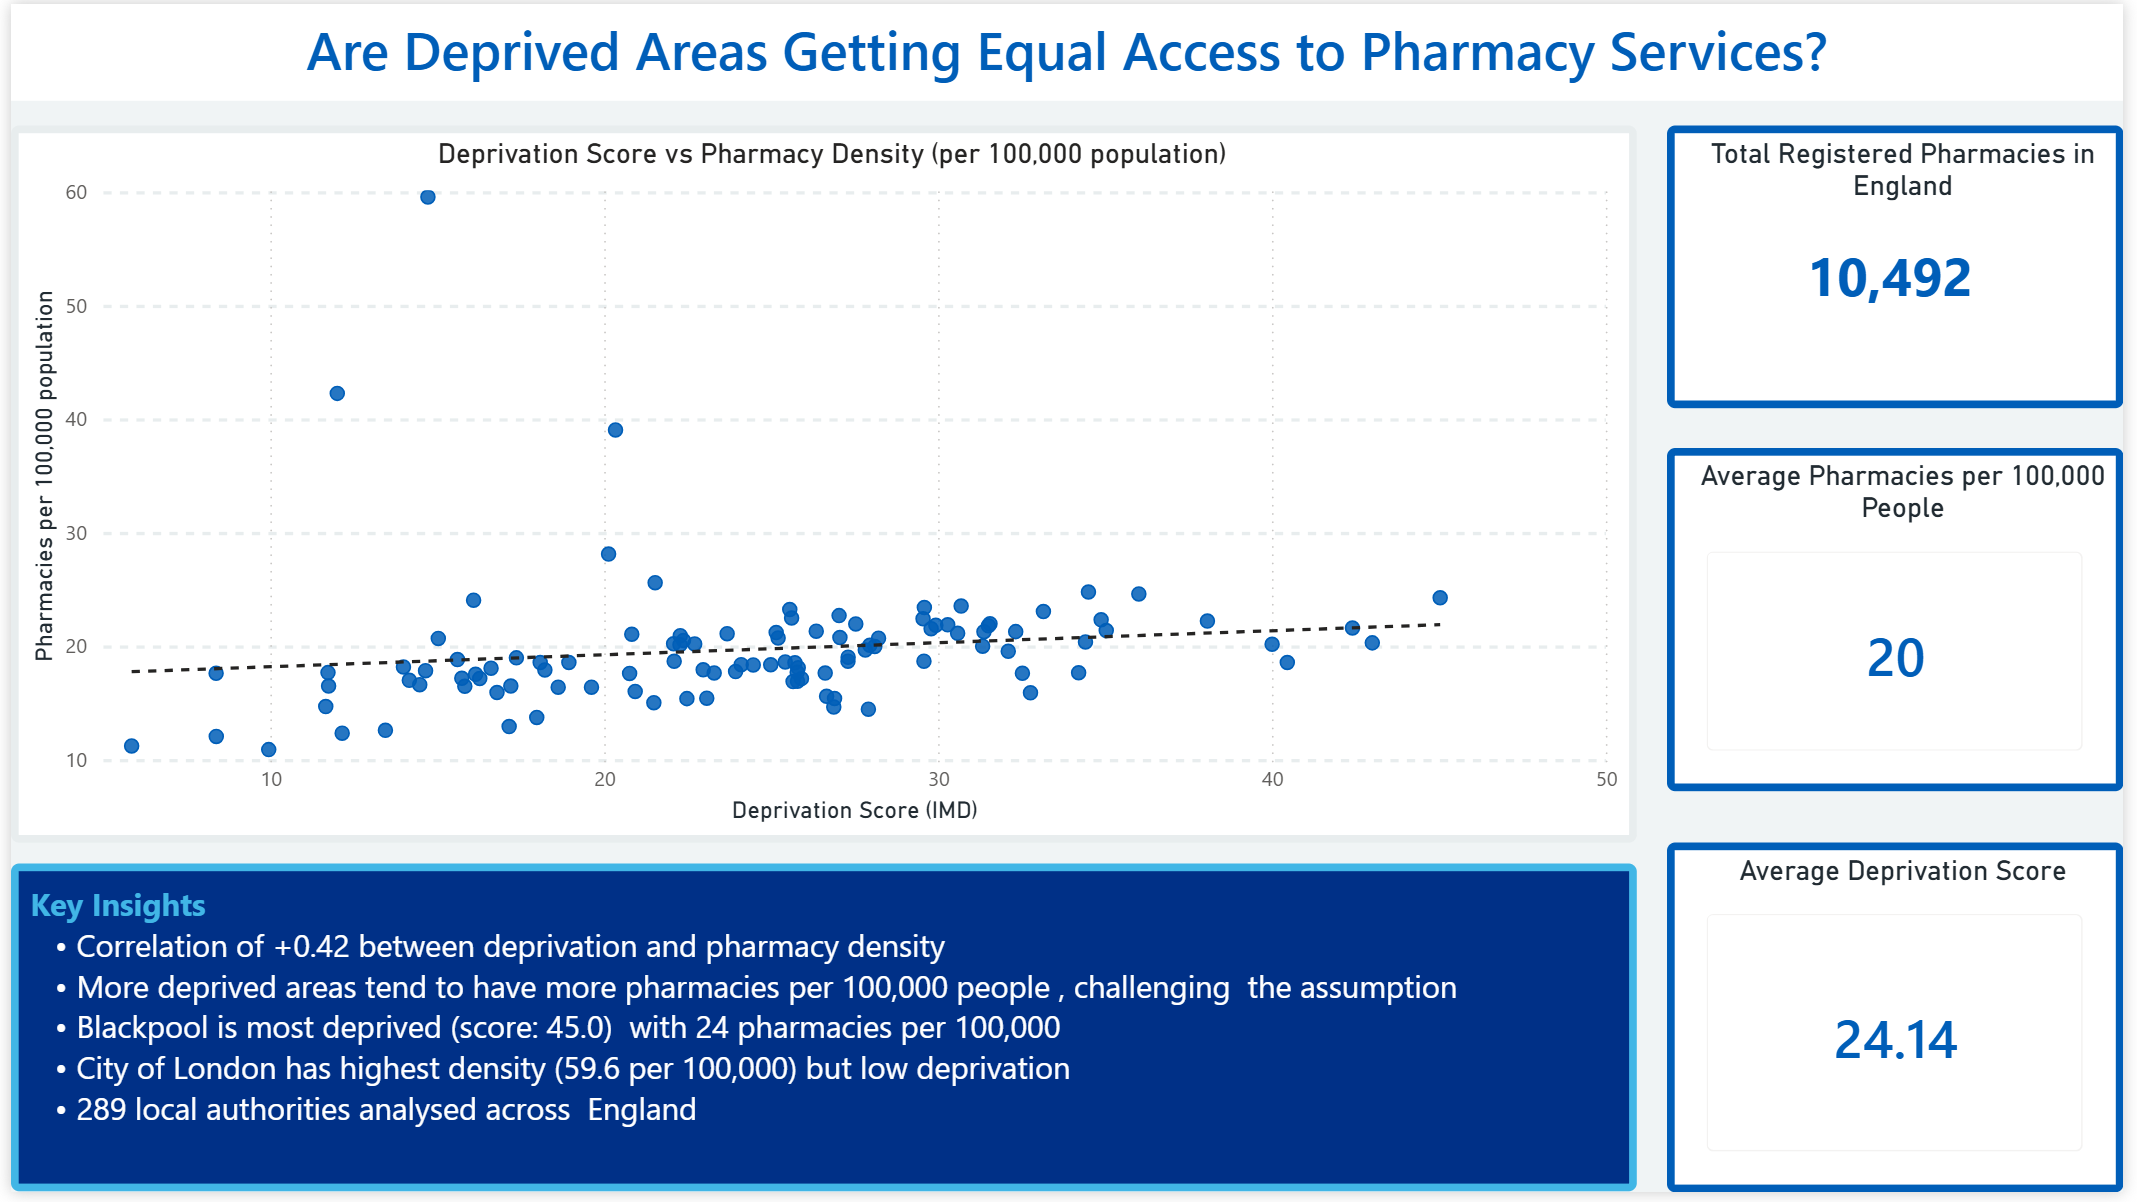

This screenshot's page, from the dashboard's own definition file:
{"tool":"powerbi","page":{"name":"Deprivation vs Access","canvas":[1280,720],"ordinal":0},"visuals":[{"type":"scatterChart","title":"Deprivation Score vs Pharmacy Density (per 100,000 population)","fields":{"X":["Sum(pharmacy_deprivation.imd_avg_score)"],"Y":["Sum(pharmacy_deprivation.pharmacies_per_100k)"],"Category":["pharmacy_deprivation.lad_name"]},"box":[0,73.3,985.6,434.4],"z":0},{"type":"cardVisual","title":"Average Pharmacies per 100,000 People","fields":{"Data":["Avg(pharmacy_deprivation.pharmacies_per_100k)"]},"box":[1003.3,268.9,276.7,207.8],"z":1000},{"type":"cardVisual","title":"Average Deprivation Score","fields":{"Data":["Avg(pharmacy_deprivation.imd_avg_score)"]},"box":[1003.3,507.8,276.7,212.2],"z":2000},{"type":"textbox","box":[0,521.1,985.6,198.9],"z":3000},{"type":"textbox","box":[0,0,1280,58.9],"z":4000},{"type":"textbox","title":"Total Registered Pharmacies in England","box":[1003.3,73.3,276.7,171.1],"z":5000}]}

Visuals, with their boxes in screenshot pixels (x1, y1, x2, y2), scaled from the page's 1280x720 canvas onto the 2137x1202 screenshot:
"Deprivation Score vs Pharmacy Density (per 100,000 population)" scatterChart: pyautogui.locateOnScreen(0, 122, 1645, 848)
"Average Pharmacies per 100,000 People" cardVisual: pyautogui.locateOnScreen(1675, 449, 2136, 796)
"Average Deprivation Score" cardVisual: pyautogui.locateOnScreen(1675, 848, 2136, 1201)
textbox: pyautogui.locateOnScreen(0, 870, 1645, 1201)
textbox: pyautogui.locateOnScreen(0, 0, 2136, 98)
"Total Registered Pharmacies in England" textbox: pyautogui.locateOnScreen(1675, 122, 2136, 408)
